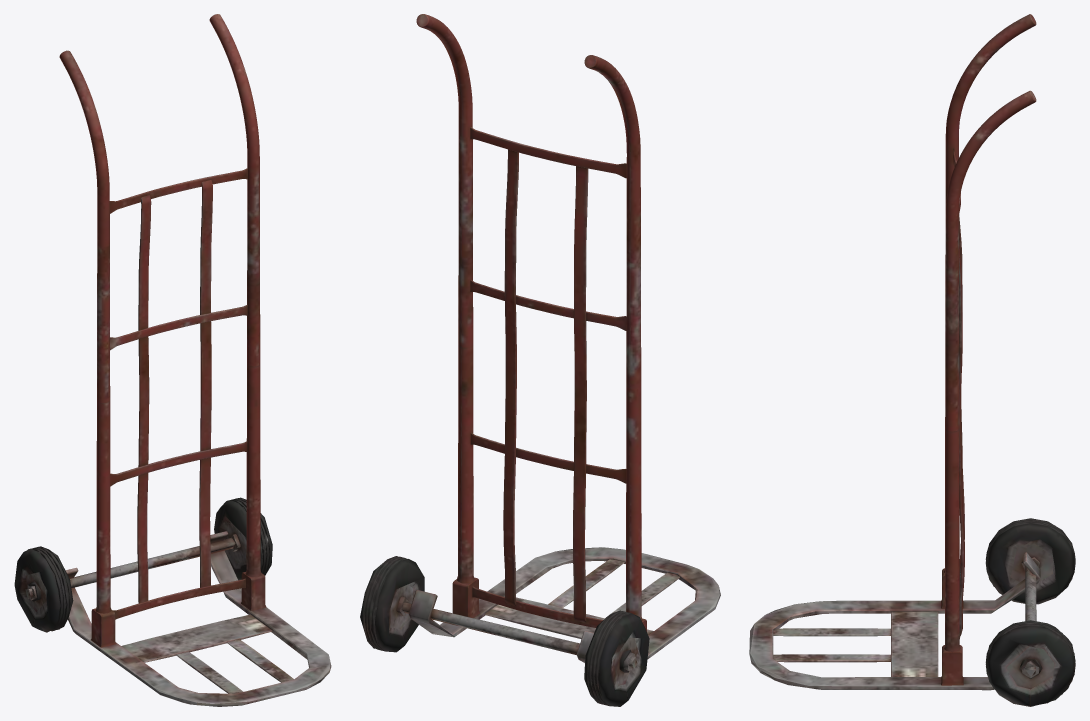
Rendered from hand_truck.glb.
The picture shows the model from 3 angles, left to right: view 1: azimuth 30°, elevation 25°; view 2: azimuth 150°, elevation 25°; view 3: azimuth 270°, elevation 25°; orthographic projection. The views are drawn at different scales.
Parts seen in each view (by area): view 1: hand_truck; view 2: hand_truck; view 3: hand_truck.
Part boxes in pixels (bbox=[...]): hand_truck: bbox=[14, 14, 331, 706]; hand_truck: bbox=[360, 14, 720, 706]; hand_truck: bbox=[749, 14, 1075, 706].
Size of the model in its own units: 0.5933 by 1.4 by 0.6921.
1 material, 1 textured.
